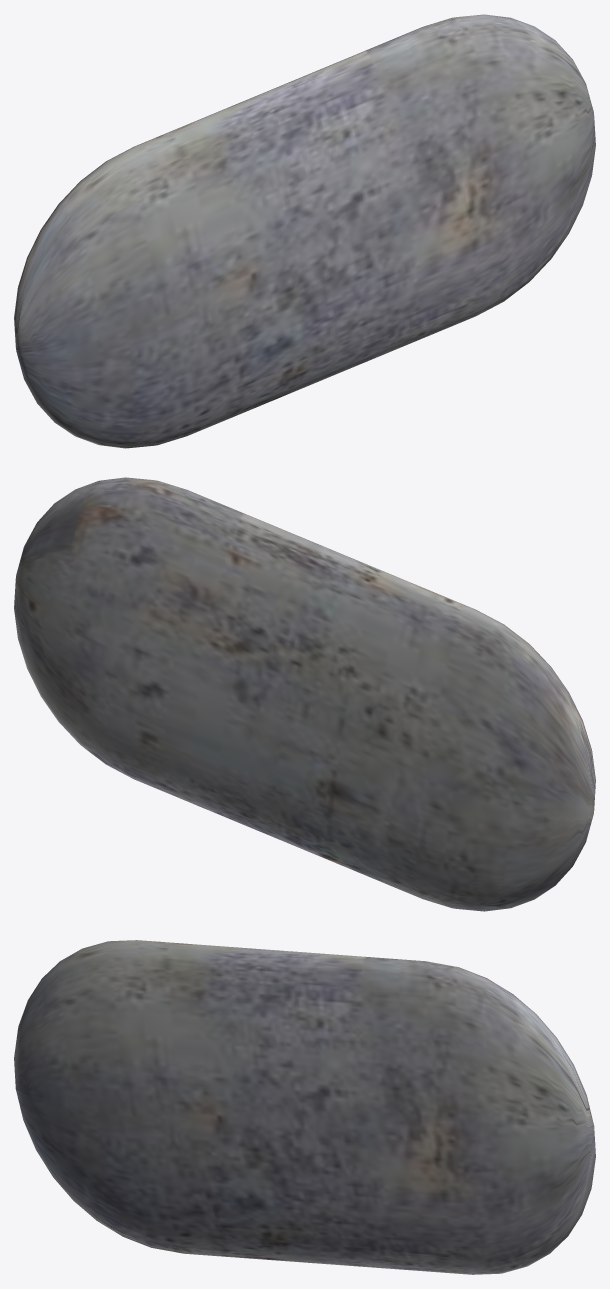
File: Fin_Top.fbx
The picture shows the model from 3 angles, top to bottom: view 1: azimuth 30°, elevation 25°; view 2: azimuth 150°, elevation 25°; view 3: azimuth 330°, elevation 25°; orthographic projection.
Visible parts, largest first — view 1: Fin_Top; view 2: Fin_Top; view 3: Fin_Top.
Part boxes in pixels (box(x1,y1,x2,y2)): Fin_Top: box(14, 14, 595, 448); Fin_Top: box(14, 477, 595, 911); Fin_Top: box(14, 940, 595, 1274).
Size of the model in its own units: 1.14 by 0.6662 by 0.1153.
